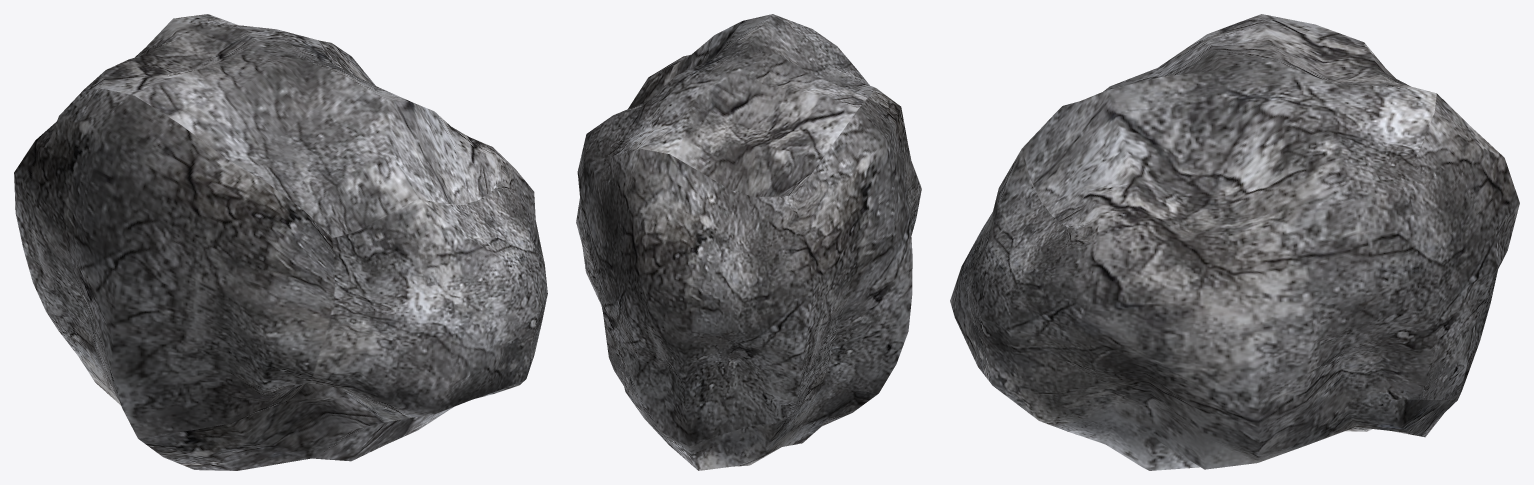
The model's file is asteroid3.glb.
The picture shows the model from 3 angles, left to right: view 1: azimuth 30°, elevation 25°; view 2: azimuth 150°, elevation 25°; view 3: azimuth 270°, elevation 25°; orthographic projection. The views are drawn at different scales.
Visible parts, largest first — view 1: Cube.038; view 2: Cube.038; view 3: Cube.038.
Boxes of the visible parts, x1,y1,x2,y2 form: Cube.038: [14, 14, 547, 470]; Cube.038: [576, 14, 921, 470]; Cube.038: [950, 14, 1519, 470].
Bounding box in the file's own units: 30.66 × 31.91 × 41.08.
Materials: 1 (1 with a texture image).
